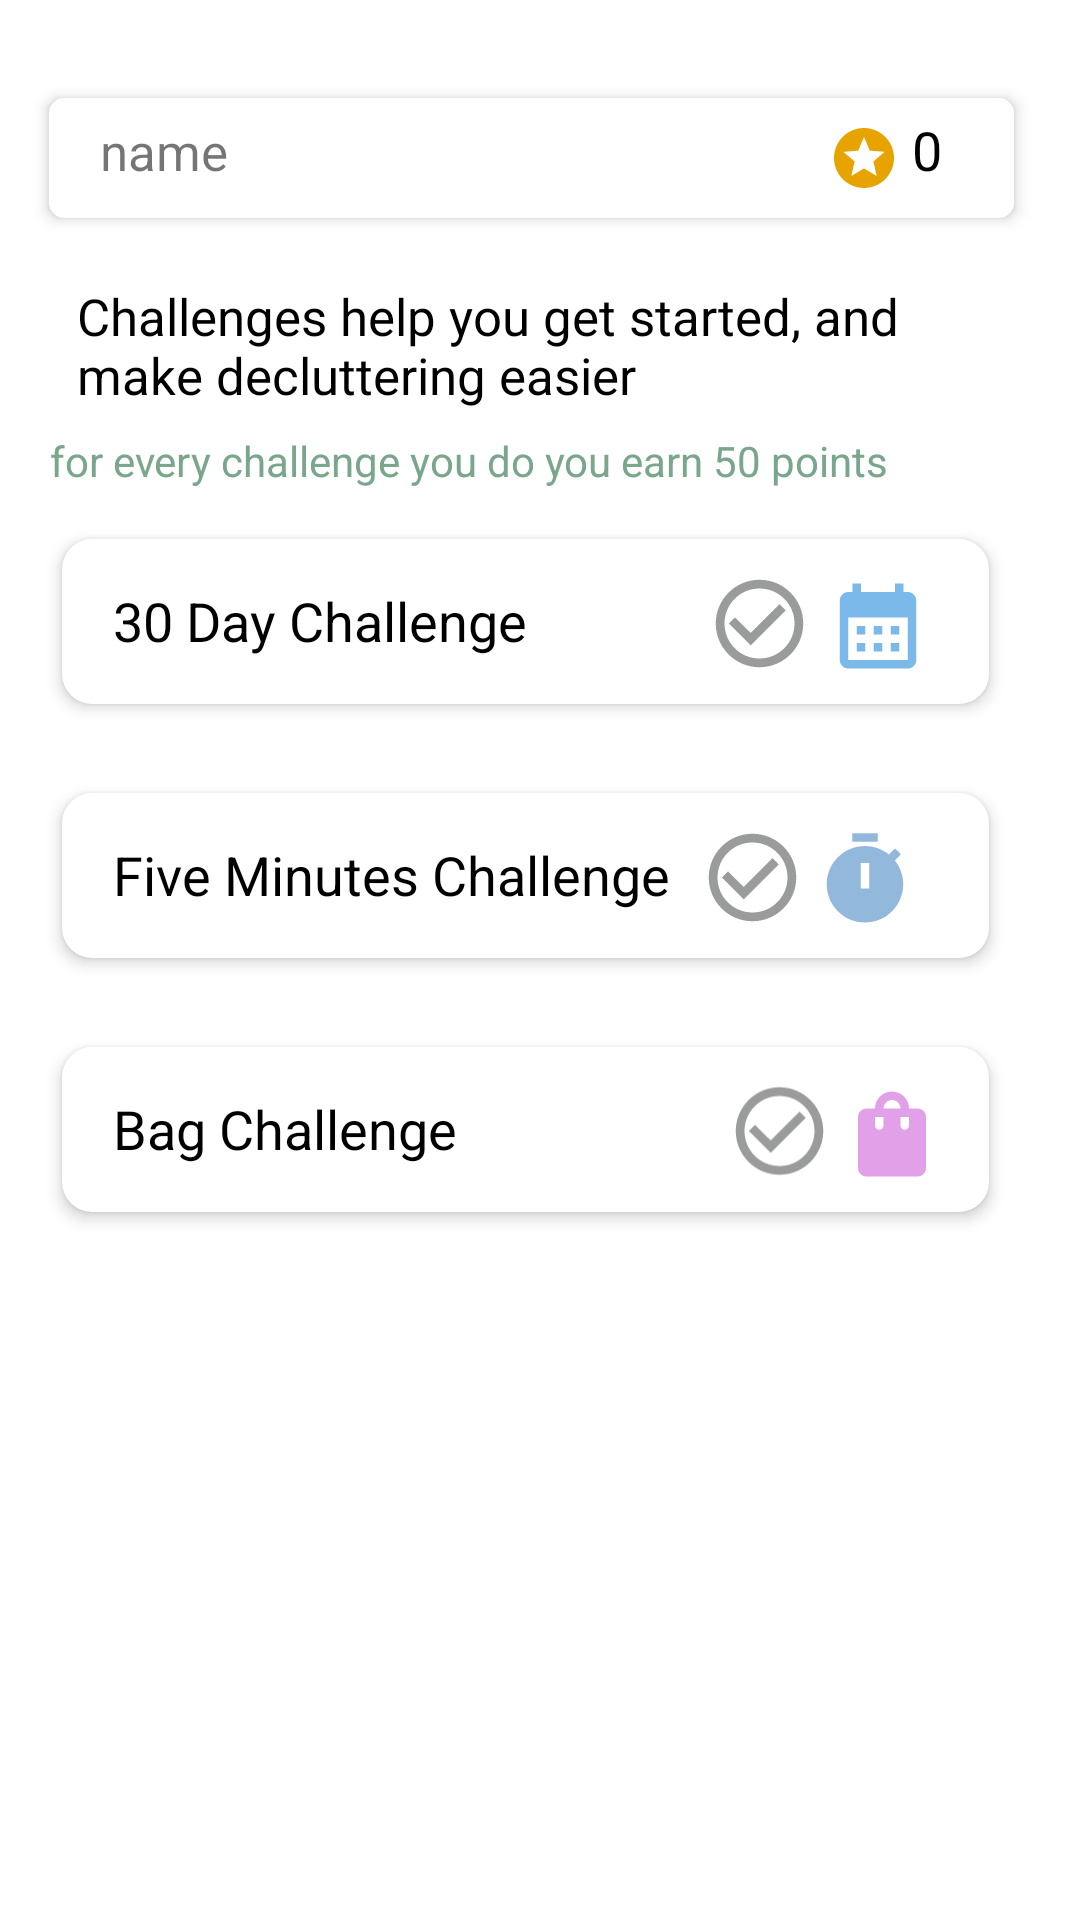

Screen size 1080px×1920px. Icon name, then its center in pixels as point (x, y):
bag: point (892, 1134)
check: point (759, 623), point (752, 877), point (779, 1131)
point star: point (864, 158)
timer: point (864, 878)
